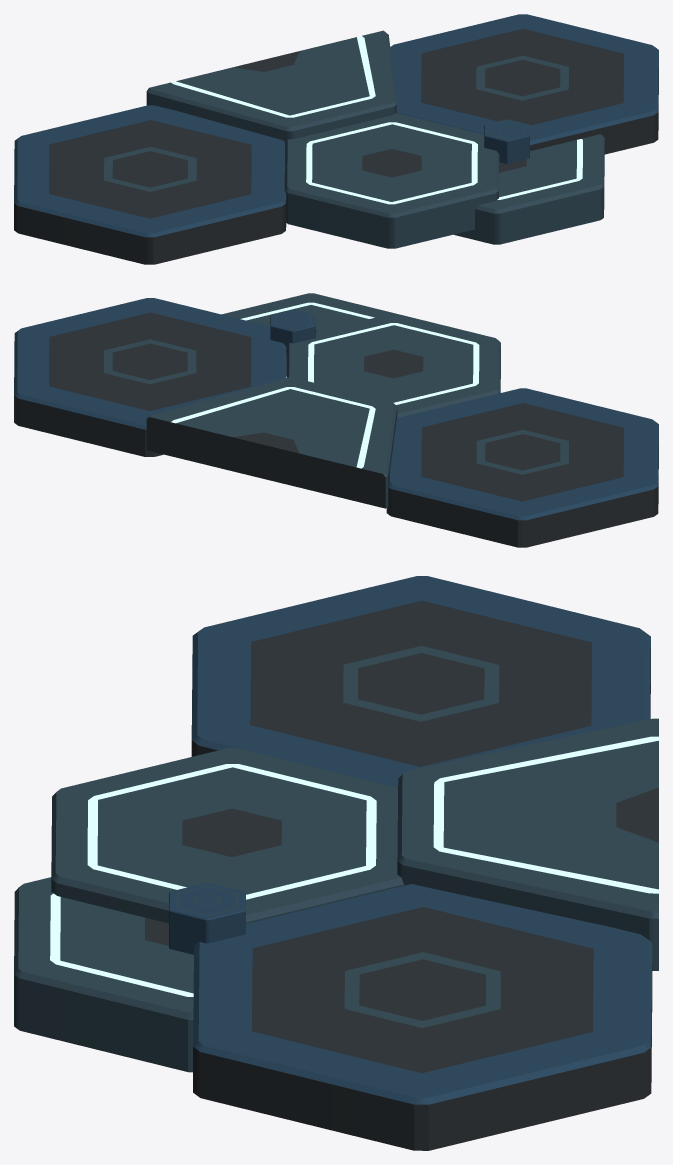
Rendered from pm-aero-ground-hexagons-01.glb.
3 views of the same model, one above another, from view 1: azimuth 30°, elevation 25°; view 2: azimuth 150°, elevation 25°; view 3: azimuth 270°, elevation 25° (orthographic). The views are drawn at different scales.
Parts seen in each view (by area): view 1: Aero_Ground_Hexagons_01_Art; view 2: Aero_Ground_Hexagons_01_Art; view 3: Aero_Ground_Hexagons_01_Art.
Part boxes in pixels (bbox=[...]): Aero_Ground_Hexagons_01_Art: bbox=[14, 14, 658, 264]; Aero_Ground_Hexagons_01_Art: bbox=[14, 293, 658, 547]; Aero_Ground_Hexagons_01_Art: bbox=[14, 576, 658, 1150].
Size of the model in its own units: 19.48 by 2 by 10.09.
Materials: 4 (1 with a texture image).
